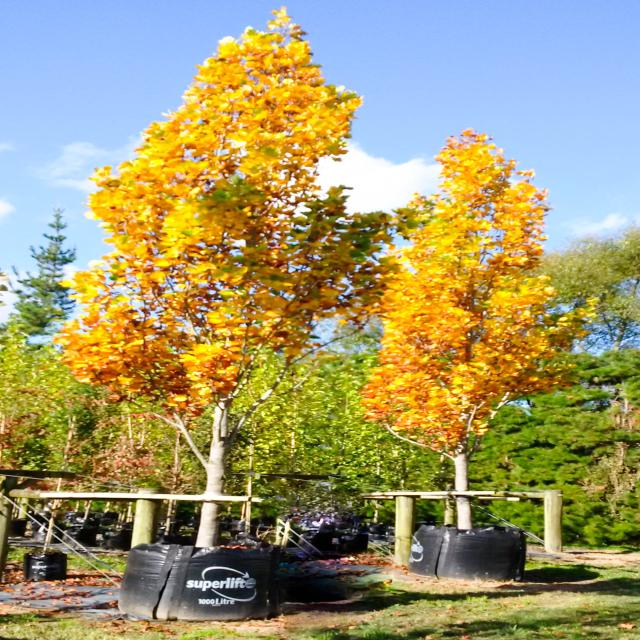Tulip: (42, 8, 442, 542), (354, 128, 586, 521)
